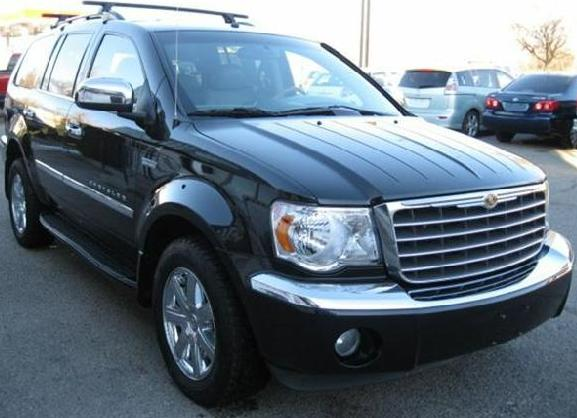front_view: (260, 181, 569, 352)
headlight: (269, 190, 397, 283)
side_glass: (30, 34, 171, 121)
